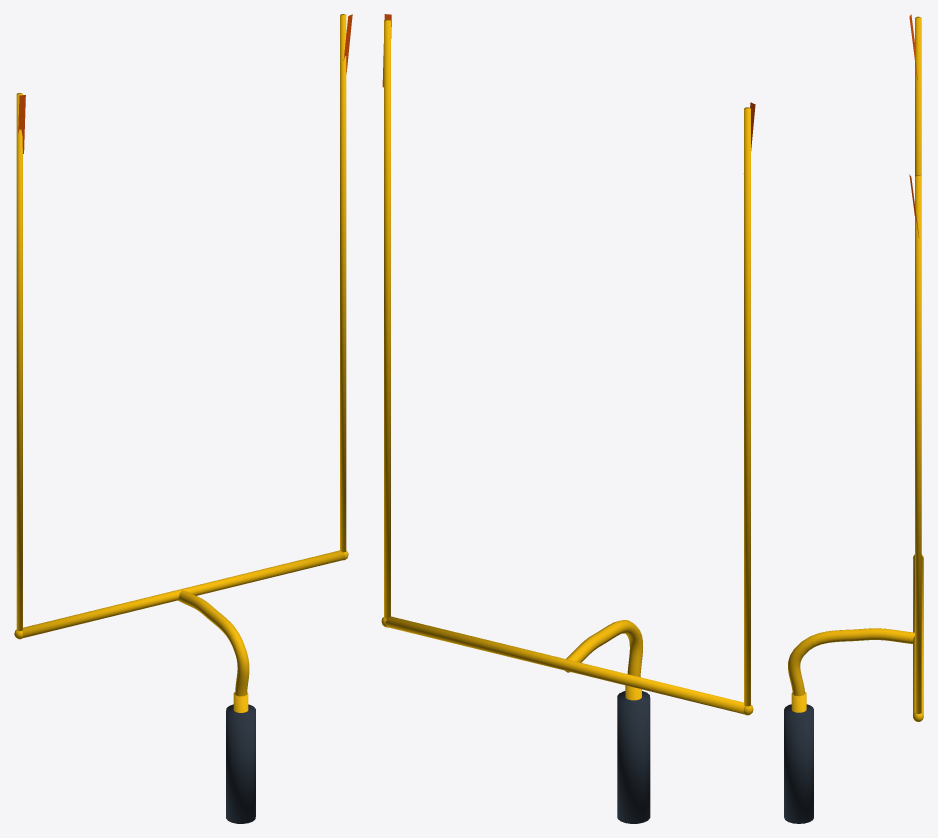
The model's file is goalpost_college.glb.
3 views of the same model, side by side, from view 1: azimuth 30°, elevation 25°; view 2: azimuth 150°, elevation 25°; view 3: azimuth 270°, elevation 25° (orthographic). The views are drawn at different scales.
Visible parts, largest first — view 1: goalpost_college__prop_gold, goalpost_college__tint_team_primary; view 2: goalpost_college__prop_gold, goalpost_college__tint_team_primary; view 3: goalpost_college__prop_gold, goalpost_college__tint_team_primary.
Boxes of the visible parts, box(x1,y1,x2,y2) form: goalpost_college__prop_gold: box(14, 14, 348, 712); goalpost_college__tint_team_primary: box(226, 704, 255, 823); goalpost_college__prop_gold: box(381, 19, 753, 715); goalpost_college__tint_team_primary: box(617, 691, 650, 823); goalpost_college__prop_gold: box(788, 16, 923, 721); goalpost_college__tint_team_primary: box(784, 704, 813, 823).
Bounding box in the file's own units: 5.93 × 12.23 × 2.14.
